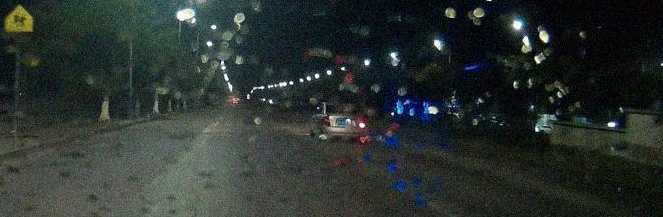L_light: (323, 116, 330, 126)
R_light: (358, 118, 365, 128)
T_light: (337, 104, 344, 106)
night-right: (322, 102, 366, 142)
